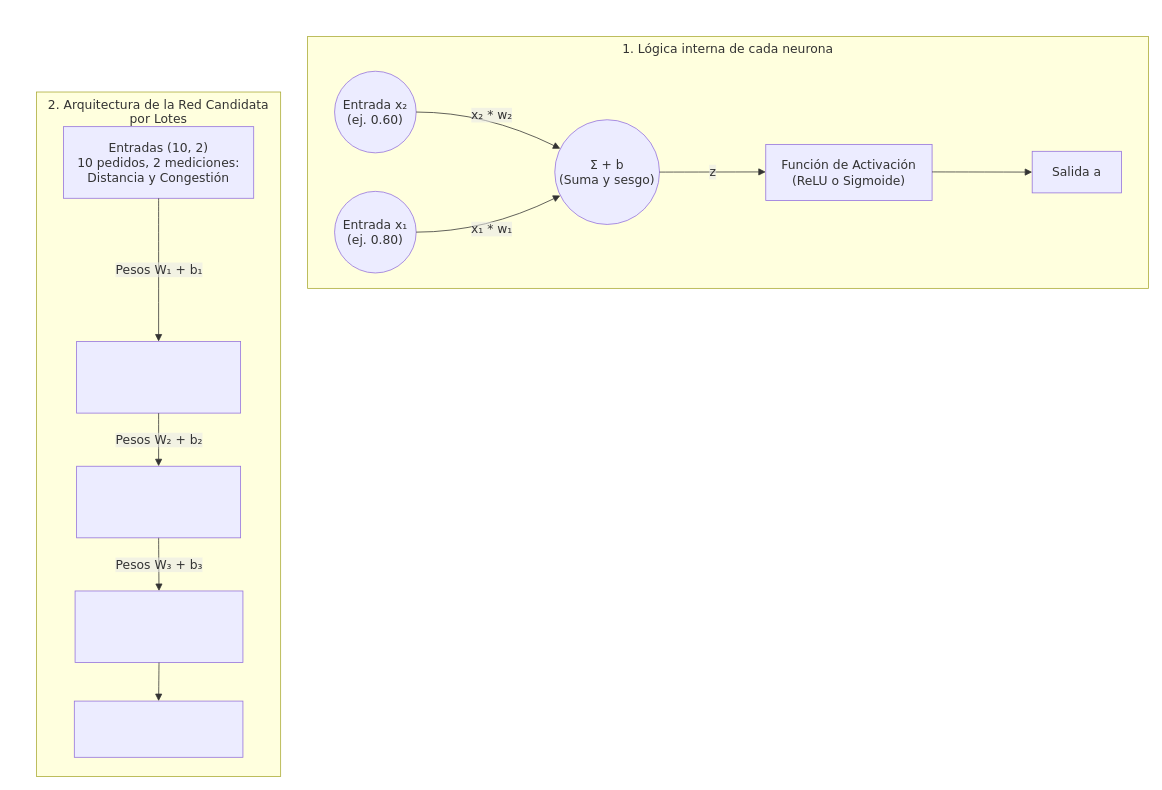
This 1162x790 diagram has some shape labels left out. Each missing label, with the centre of its shape:
"Capa de Salida (10, 1) 1 Neurona Activación: Sigmoide" belongs at point 158,626.
"Capa Oculta 1 (10, 4) 4 Neuronas Activación: ReLU" belongs at point 158,377.
"Capa Oculta 2 (10, 3) 3 Neuronas Activación: ReLU" belongs at point 158,501.
"Probabilidad estimada de retraso (0 a 1)" belongs at point 158,728.
